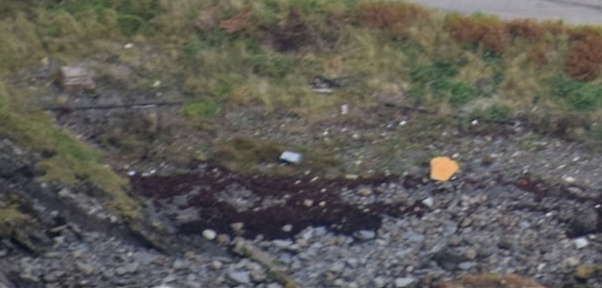white_in_green: (407, 137, 480, 196), (261, 131, 318, 179)
